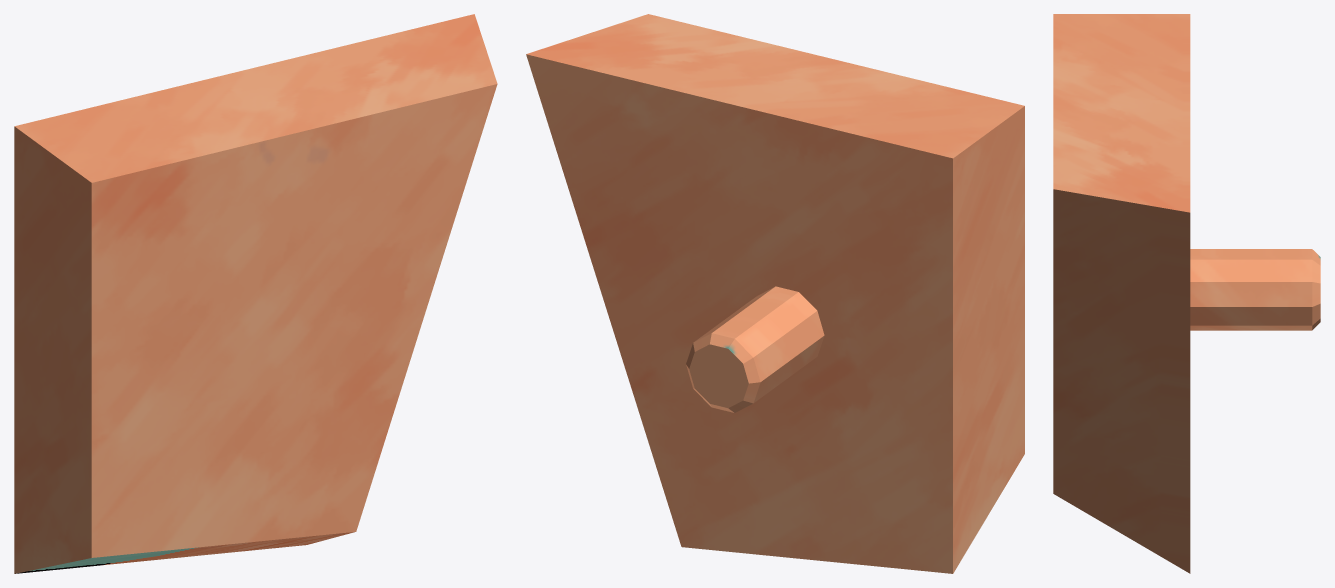
The model's file is wall_plain_s11.fbx.
3 renders of one model, left to right at view 1: azimuth 30°, elevation 25°; view 2: azimuth 150°, elevation 25°; view 3: azimuth 270°, elevation 25°, orthographic. The views are drawn at different scales.
Visible parts, largest first — view 1: wall_plain_s11; view 2: wall_plain_s11; view 3: wall_plain_s11.
Part boxes in pixels (x1,y1,x2,y2): wall_plain_s11: [14, 14, 497, 573]; wall_plain_s11: [526, 14, 1024, 573]; wall_plain_s11: [1053, 14, 1320, 573].
Size of the model in its own units: 3.43 by 3.49 by 1.95.
